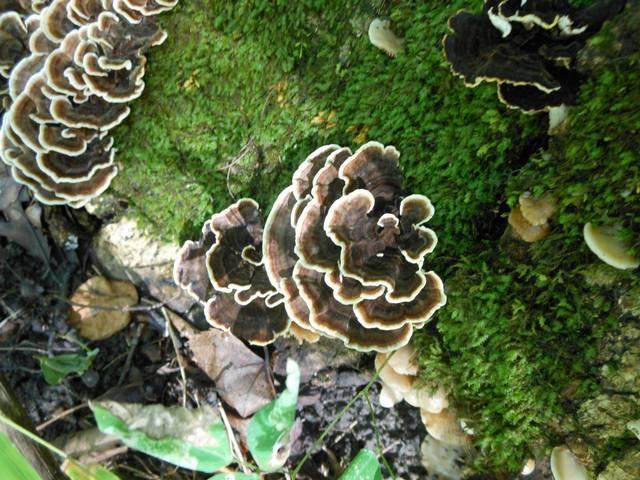Non-edible Mushroom: (260, 139, 448, 353), (0, 0, 179, 209)
